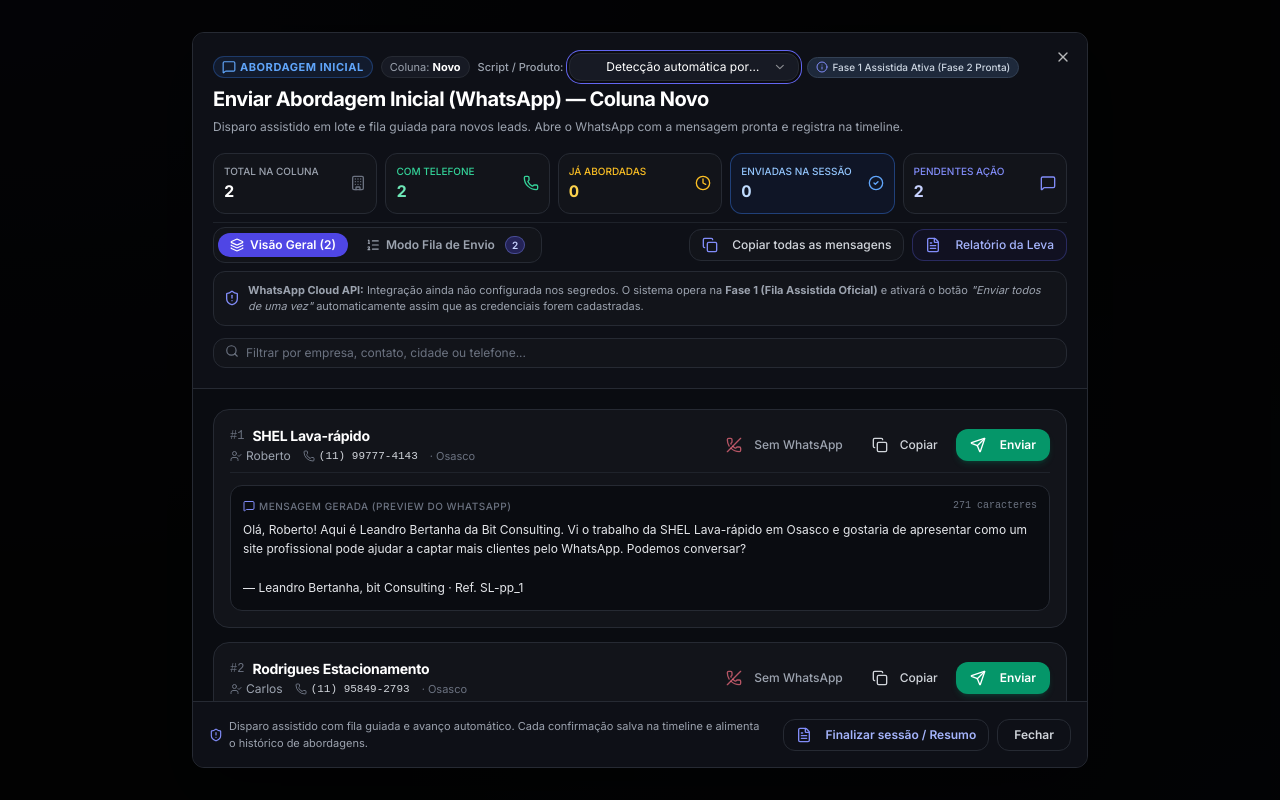
BatchWhatsAppModal — Status Enviada em Azul › clicar "Sim, enviado" → badge azul Enviada + movimentação para Qualificado + registros na timeline e histórico
The image size is (1280, 800).
Clicar em "Enviar"
Click the button with test id "btn-send-opp_1" at [1003, 444], box 956,428 -> 1050,460
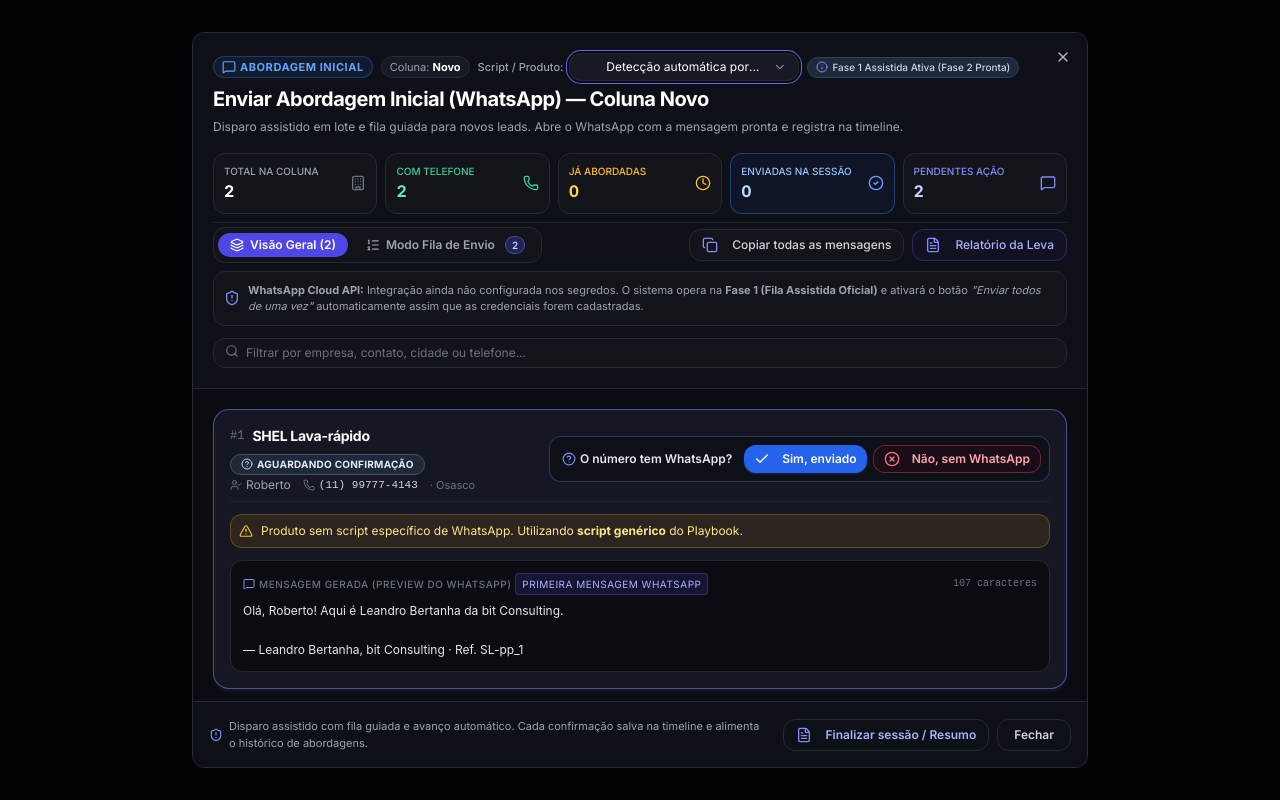
Aguardar caixa de confirmação
Click the button with test id "btn-confirm-yes-opp_1" at [805, 459], box 744,445 -> 867,473
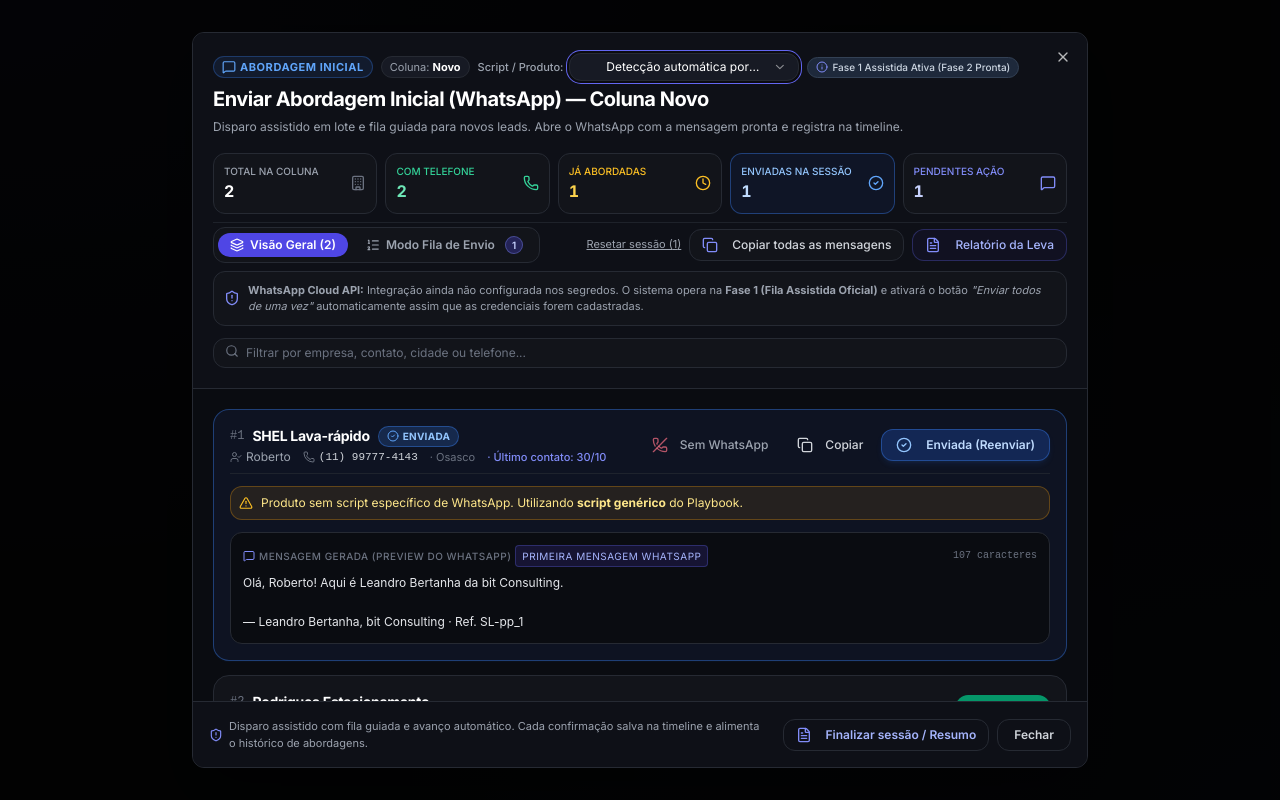
Now the element with test id "status-badge-enviada-opp_1" is shown, box 378,426 -> 459,446
Now the element with test id "status-badge-enviada-opp_1" reads "Enviada", box 403,430 -> 450,442
Now the button with test id "btn-send-opp_1" reads "Enviada (Reenviar)", box 881,429 -> 1050,461
